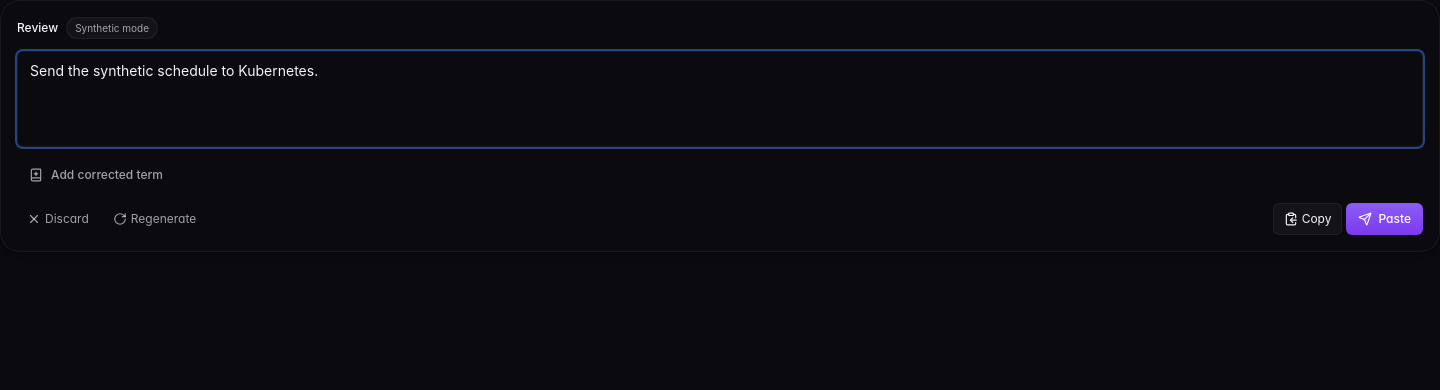
Scenario: Review correction vocabulary integration › Escape and command-Enter inside confirmation do not discard or paste Review
Click the button "Add corrected term": (96, 175) [17, 159, 175, 191]
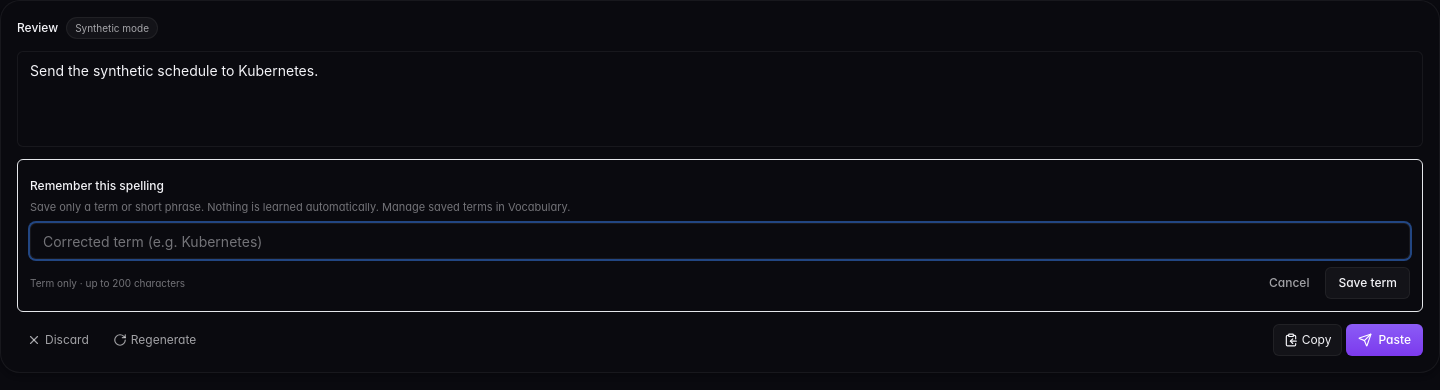
Press Enter in the field labelled "Remember this spelling", box [30, 223, 1410, 259]
Press Escape in the field labelled "Remember this spelling", box [30, 223, 1410, 259]
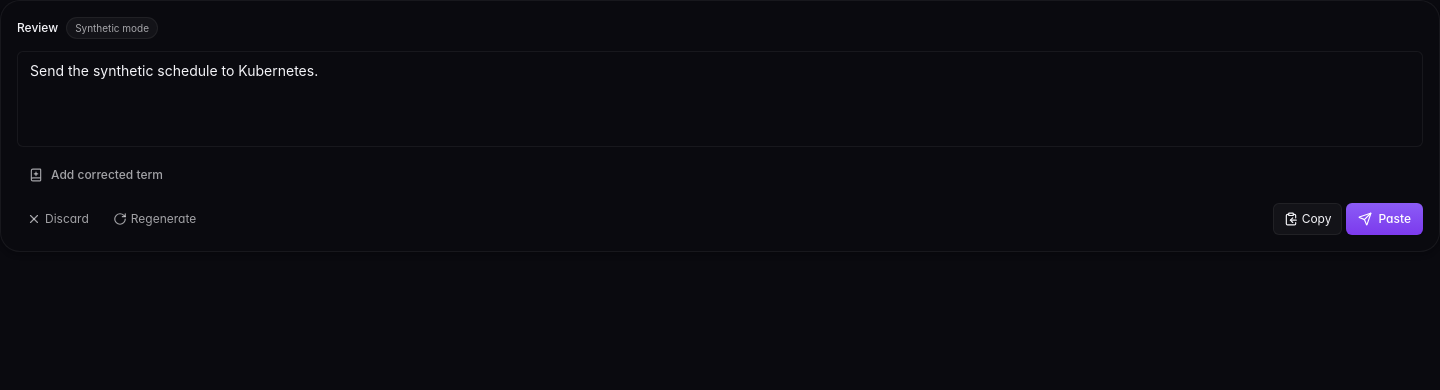
Check: the text box holds "Send the synthetic schedule to Kubernetes.", box [17, 51, 1423, 147]
Check: the field is gone
